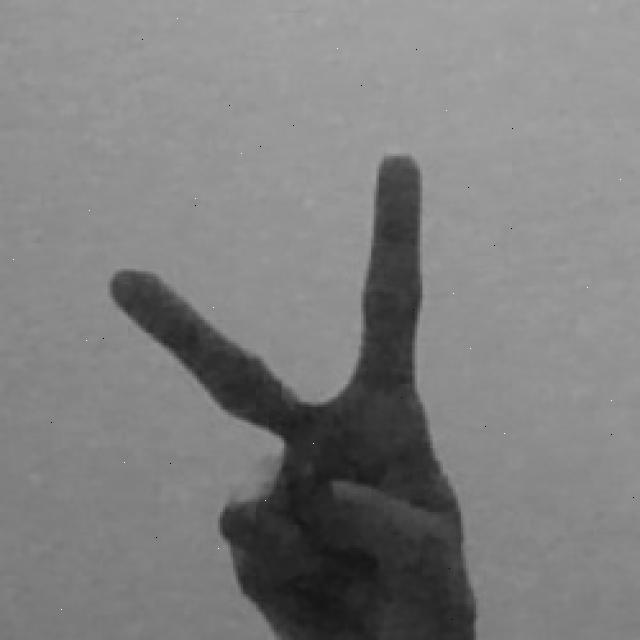V: (110, 143, 484, 640)
